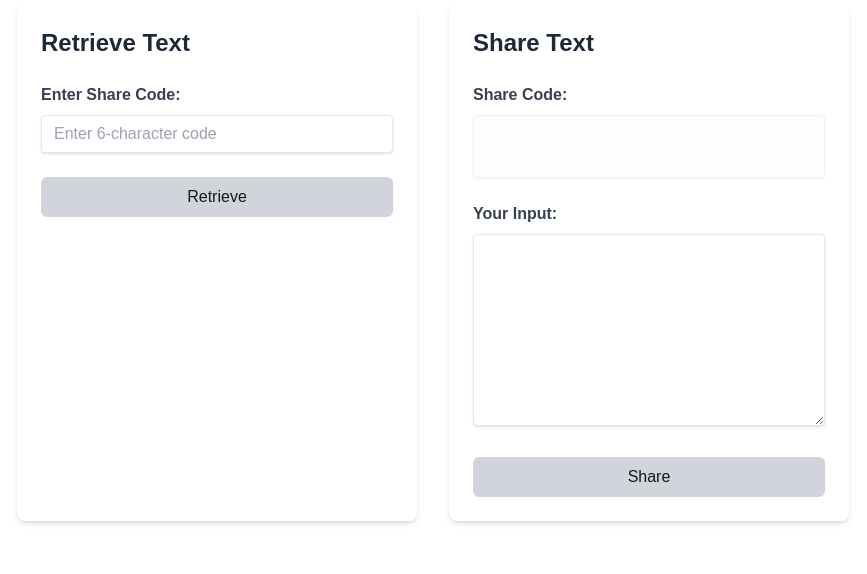
Form Component › handles text sharing
Type "Test text" into the text box labelled "Your Input:" at (649, 330), box 473,234 -> 825,426
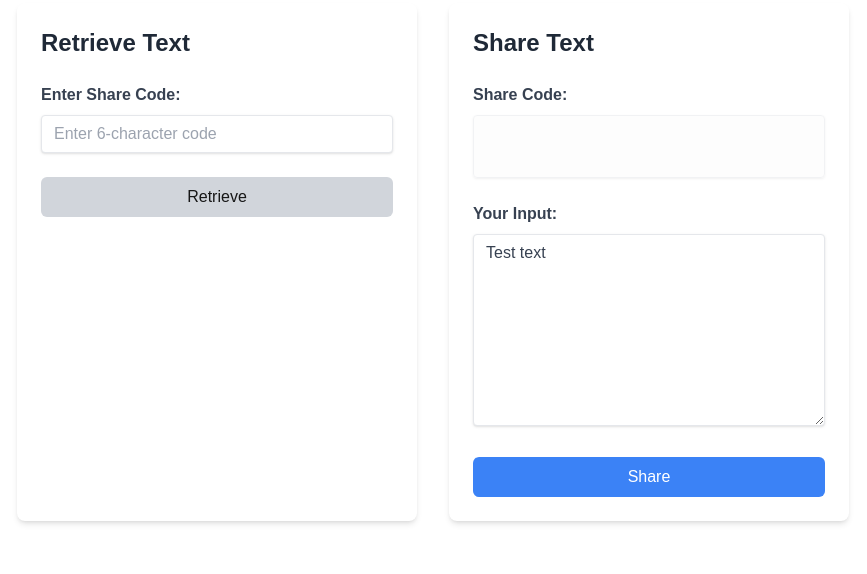
Click the button "Share" at (649, 477), box 473,457 -> 825,497
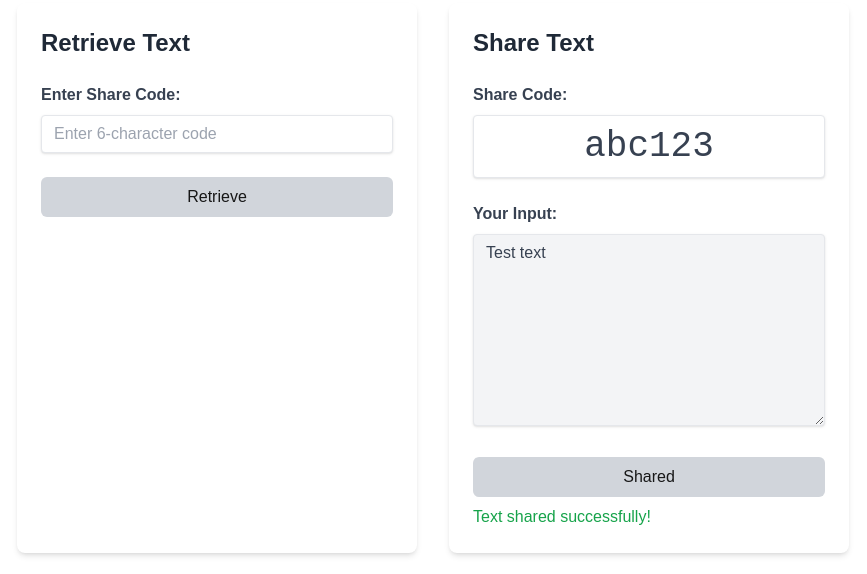
Check: the text "Text shared successfully!" is shown, box 473,508 -> 651,525
